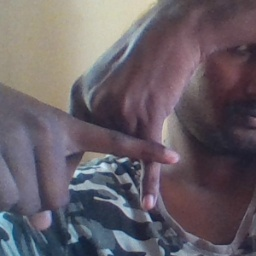H: (47, 84, 178, 209)
